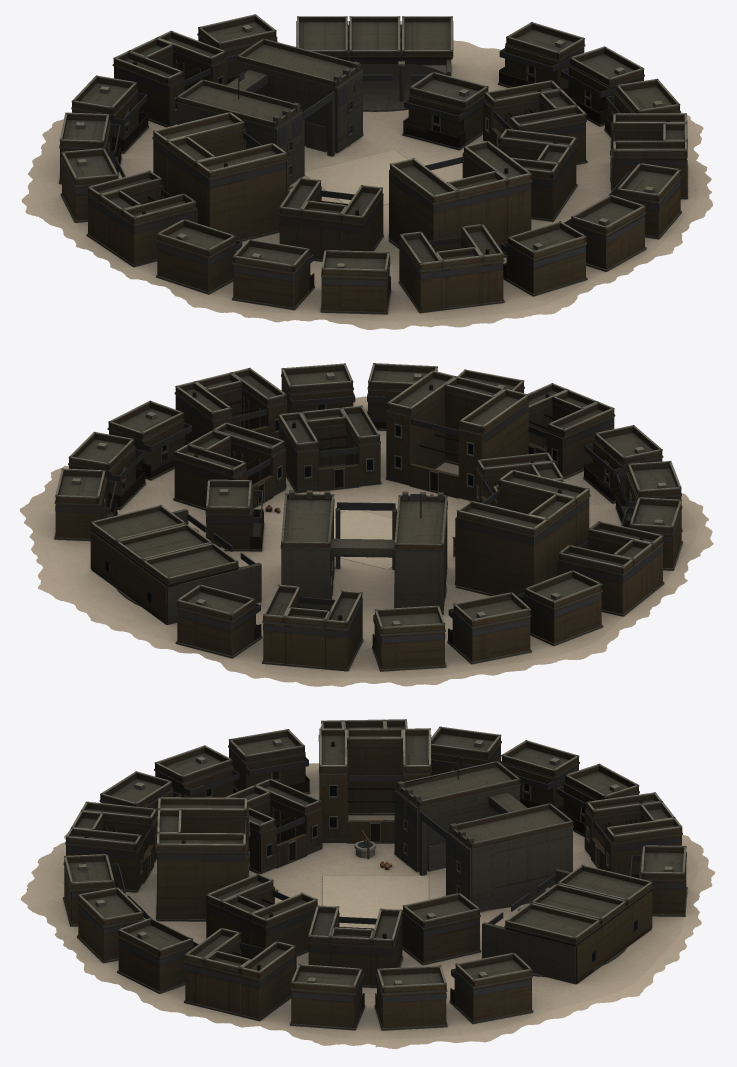
The model's file is bronze-town-big-a-israelite.glb.
The picture shows the model from 3 angles, top to bottom: view 1: azimuth 30°, elevation 25°; view 2: azimuth 150°, elevation 25°; view 3: azimuth 270°, elevation 25°; orthographic projection.
Parts seen in each view (by area): view 1: LOD0; view 2: LOD0; view 3: LOD0.
Boxes of the visible parts, x1,y1,x2,y2 form: LOD0: [21, 14, 712, 329]; LOD0: [20, 363, 713, 686]; LOD0: [20, 719, 714, 1049].
Size of what is drawn, in the model's own units: 7.94 by 1.25 by 8.04.
Materials: 3 (3 with a texture image).
